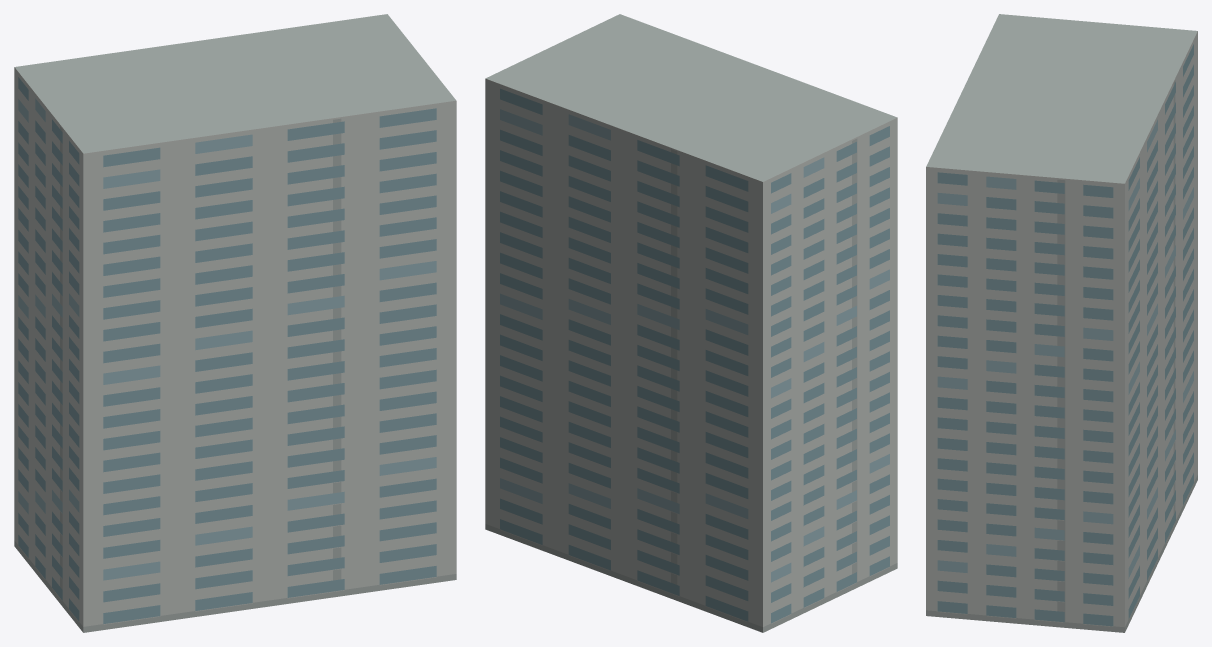
File: residential-aa0861e8-435c-4c54-8668-36f7dfe2885a.glb
3 renders of one model, left to right at view 1: azimuth 30°, elevation 25°; view 2: azimuth 150°, elevation 25°; view 3: azimuth 270°, elevation 25°, orthographic. The views are drawn at different scales.
Visible parts, largest first — view 1: residential-aa0861e8-435c-4c54-8668-36f7dfe2885a.tmp; view 2: residential-aa0861e8-435c-4c54-8668-36f7dfe2885a.tmp; view 3: residential-aa0861e8-435c-4c54-8668-36f7dfe2885a.tmp.
Boxes of the visible parts, x1,y1,x2,y2 form: residential-aa0861e8-435c-4c54-8668-36f7dfe2885a.tmp: [14, 14, 456, 632]; residential-aa0861e8-435c-4c54-8668-36f7dfe2885a.tmp: [485, 14, 897, 632]; residential-aa0861e8-435c-4c54-8668-36f7dfe2885a.tmp: [926, 14, 1197, 632].
Bounding box in the file's own units: 60 × 74 × 40.59.
